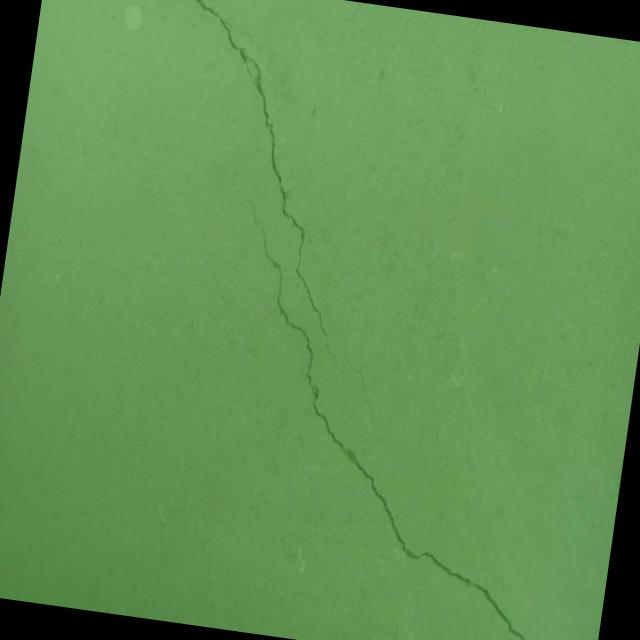crack: (181, 189, 588, 640), (117, 0, 397, 375), (335, 354, 387, 428)
